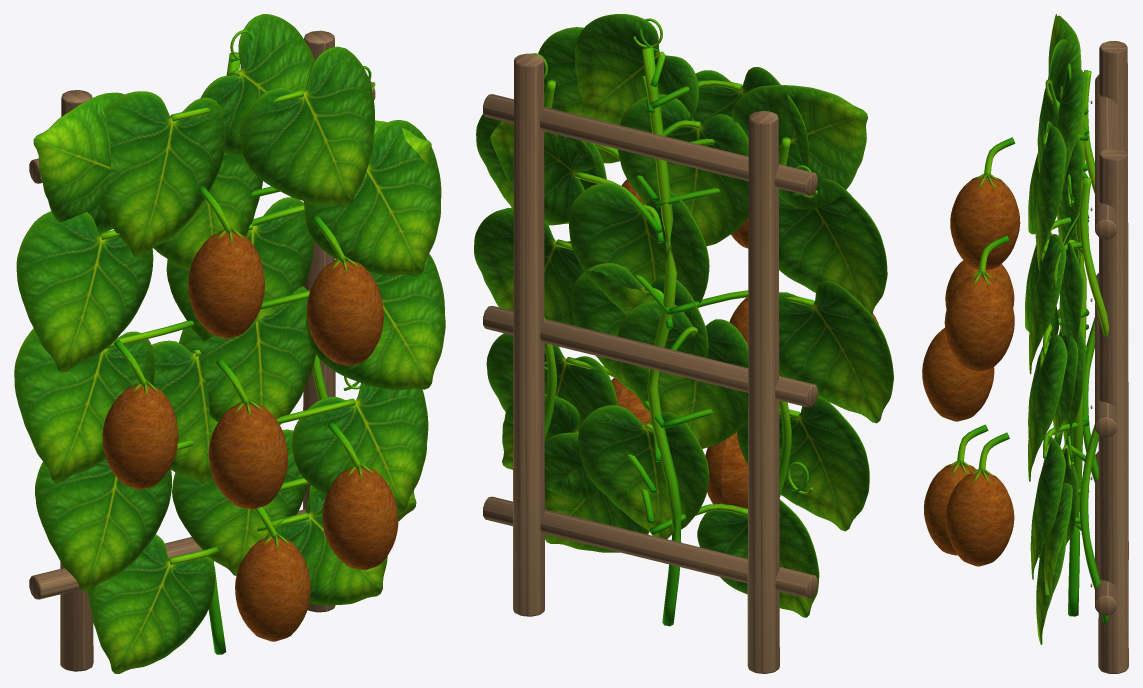
File: NP_Kiwi_Ready.fbx
The picture shows the model from 3 angles, left to right: view 1: azimuth 30°, elevation 25°; view 2: azimuth 150°, elevation 25°; view 3: azimuth 270°, elevation 25°; orthographic projection. The views are drawn at different scales.
Visible parts, largest first — view 1: NP_Kiwi_Ready; view 2: NP_Kiwi_Ready; view 3: NP_Kiwi_Ready.
Boxes of the visible parts, x1,y1,x2,y2 form: NP_Kiwi_Ready: [14, 14, 445, 673]; NP_Kiwi_Ready: [474, 14, 893, 673]; NP_Kiwi_Ready: [922, 14, 1128, 673].
Size of the model in its own units: 83.02 by 115 by 38.36.
